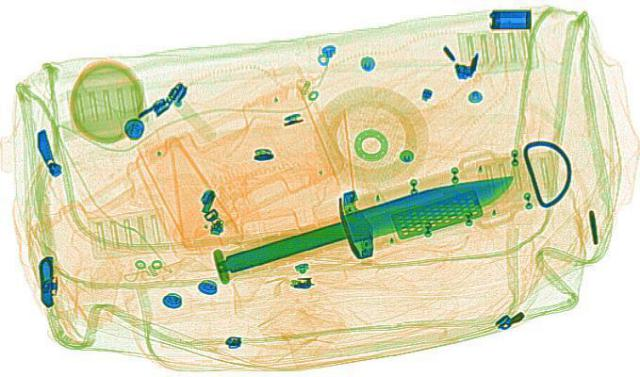Knife: (170, 146, 548, 299)
